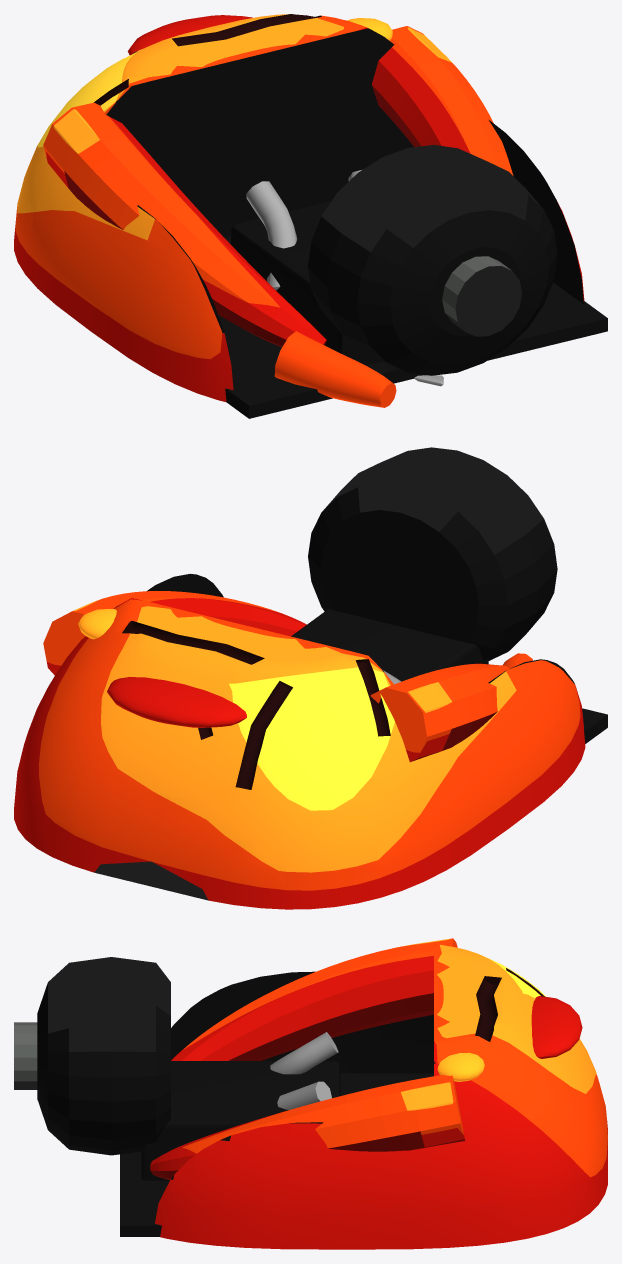
Rendered from ice_drill_dome_wreck.glb.
3 renders of one model, top to bottom at view 1: azimuth 30°, elevation 25°; view 2: azimuth 150°, elevation 25°; view 3: azimuth 270°, elevation 25°, orthographic. The views are drawn at different scales.
Parts seen in each view (by area): view 1: ice_drill_dome_wreck; view 2: ice_drill_dome_wreck; view 3: ice_drill_dome_wreck.
Part boxes in pixels (x1,y1,x2,y2): ice_drill_dome_wreck: (14, 14, 607, 418); ice_drill_dome_wreck: (14, 447, 607, 909); ice_drill_dome_wreck: (14, 938, 607, 1249).
Bounding box in the file's own units: 20 × 9.99 × 28.
